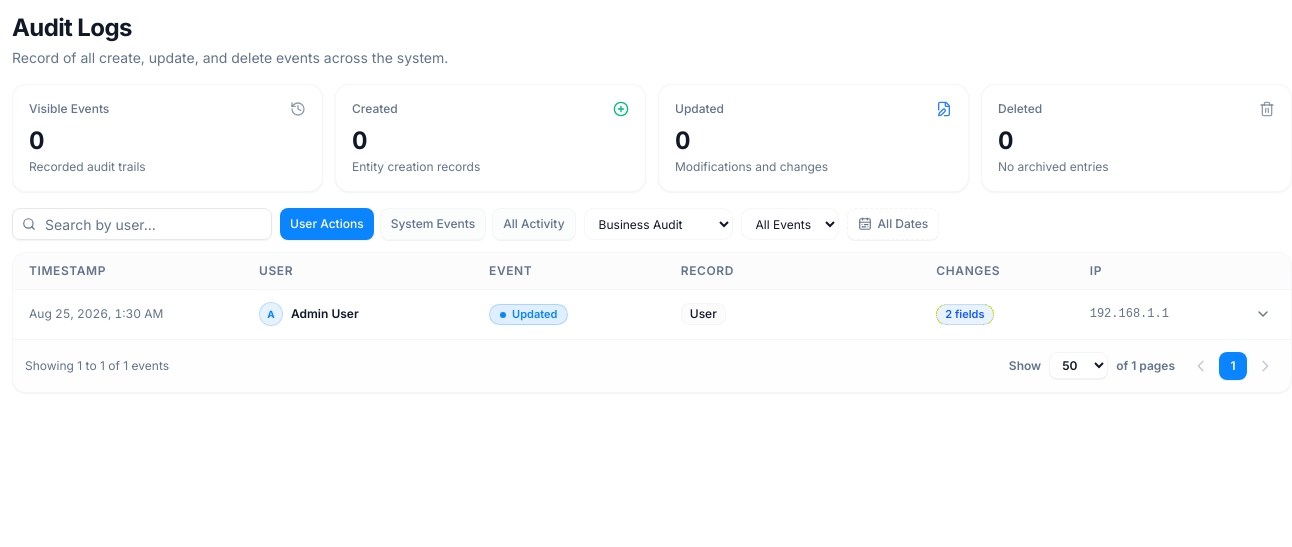
Scenario: AuditLogs › renders audit log entries and expands diff details when clicked
Expected: the text "Admin User" is shown, [291, 306, 359, 322]
Expected: the text "192.168.1.1" is shown, [1074, 289, 1227, 338]
# Click row to toggle accordion diff
Click the text "2 fields": (965, 314) [936, 304, 994, 325]
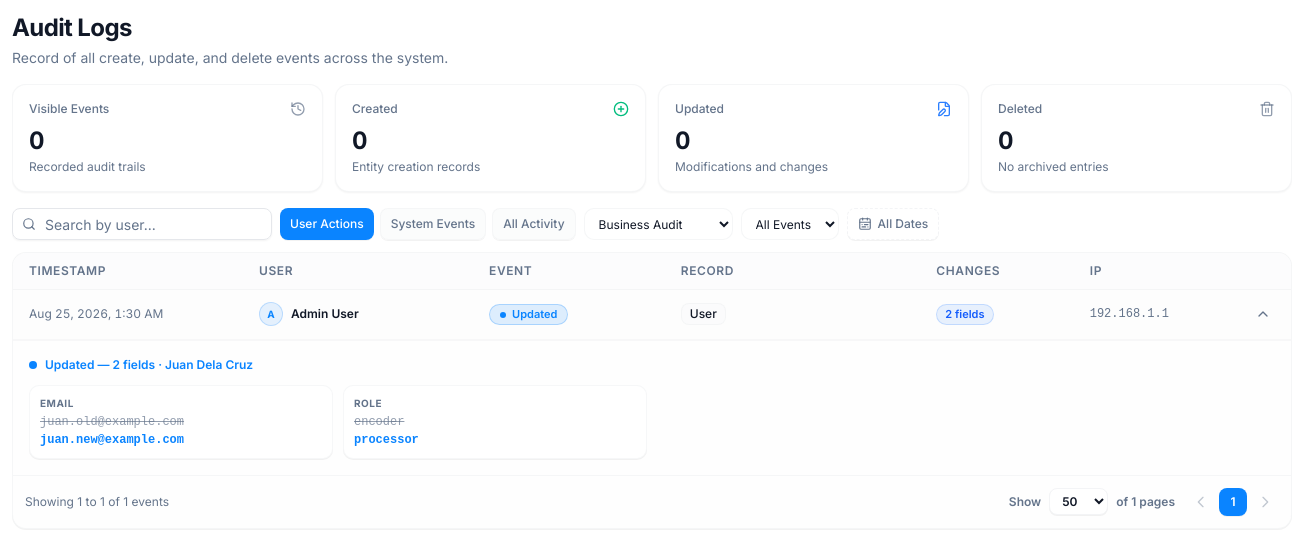
Expected: the text "Email" is shown, [40, 396, 74, 408]
Expected: the text "Role" is shown, [354, 396, 382, 408]
Expected: the text "juan.old@example.com" is shown, [40, 415, 184, 429]
